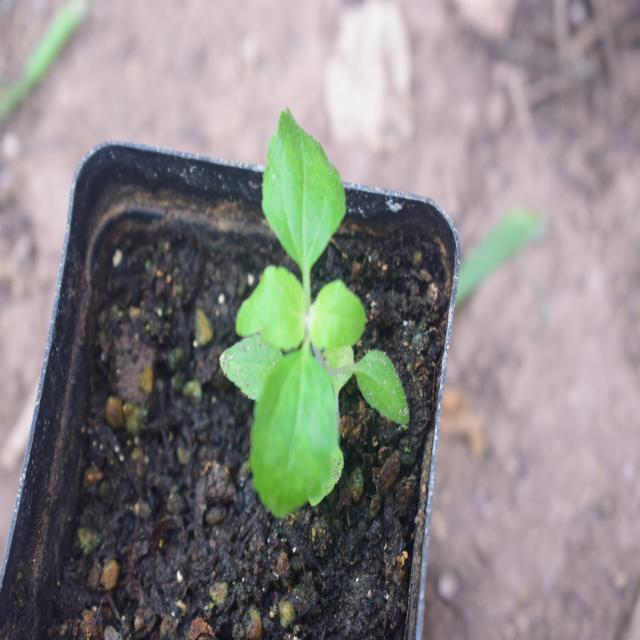billygoat_weed: (230, 123, 396, 499)
